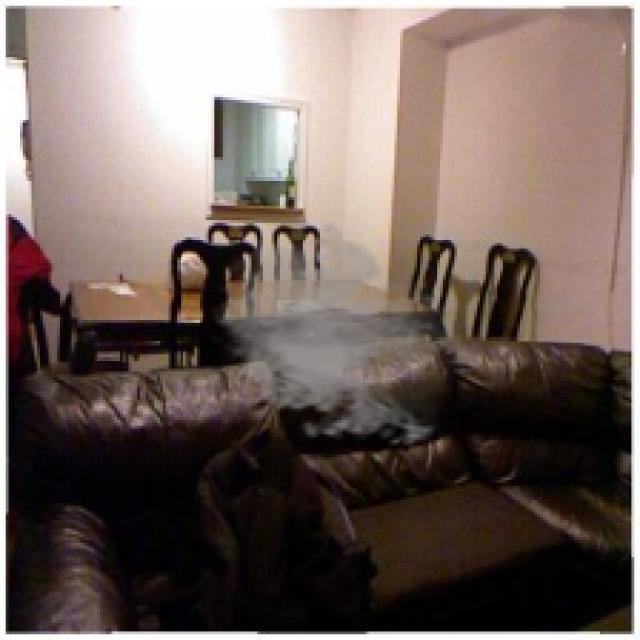smoke: (208, 220, 472, 451)
